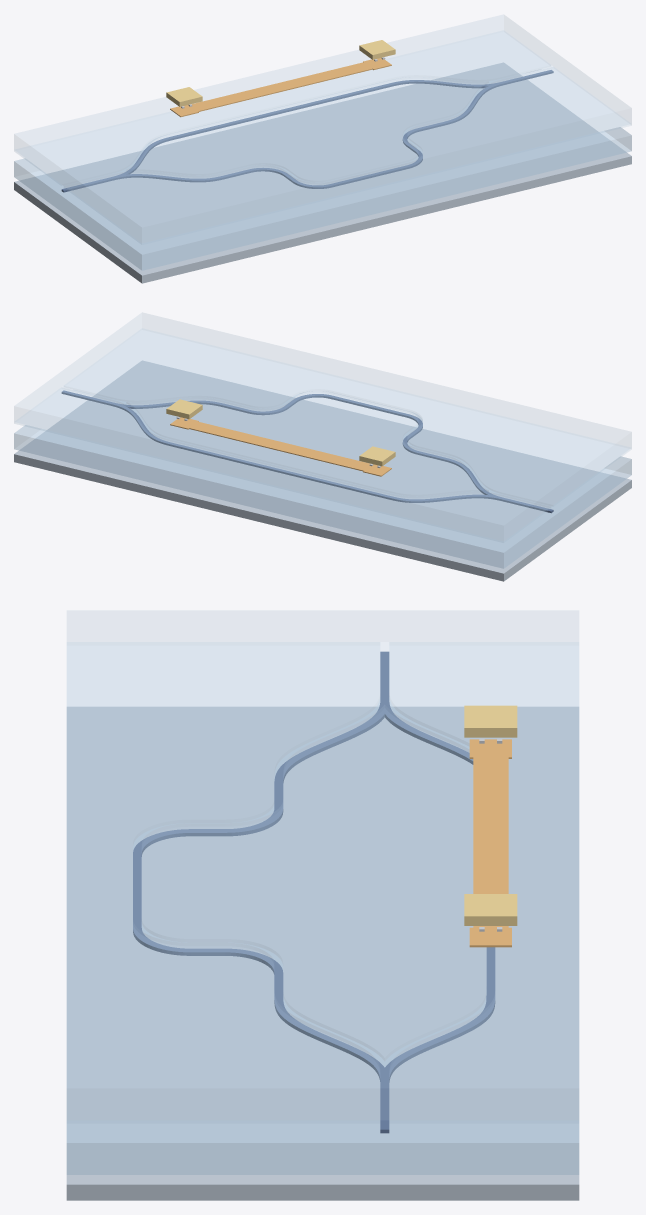
The model's file is stack-mzi-x.glb.
3 views of the same model, one above another, from view 1: azimuth 30°, elevation 25°; view 2: azimuth 150°, elevation 25°; view 3: azimuth 270°, elevation 25° (orthographic). The views are drawn at different scales.
Parts seen in each view (by area): view 1: cladd, sisub, box, siwg, tin18, metal1; view 2: cladd, sisub, box, siwg, tin18, metal1; view 3: cladd, sisub, box, siwg, tin18, metal1.
Boxes of the visible parts, box(x1,y1,x2,y2) form: cladd: box(14, 15, 631, 244); sisub: box(14, 62, 631, 283); box: box(14, 70, 631, 270); siwg: box(61, 70, 553, 192); tin18: box(170, 58, 391, 117); metal1: box(166, 40, 395, 106); cladd: box(14, 313, 631, 542); sisub: box(14, 360, 631, 581); box: box(14, 390, 631, 568); siwg: box(61, 390, 553, 513); tin18: box(170, 417, 391, 476); metal1: box(166, 399, 395, 466); cladd: box(67, 611, 578, 1122); sisub: box(66, 706, 579, 1200); box: box(66, 698, 579, 1174); siwg: box(133, 651, 495, 1133); tin18: box(469, 739, 511, 947); metal1: box(464, 705, 517, 925).
Size of the model in its own units: 64 by 9.4 by 29.
